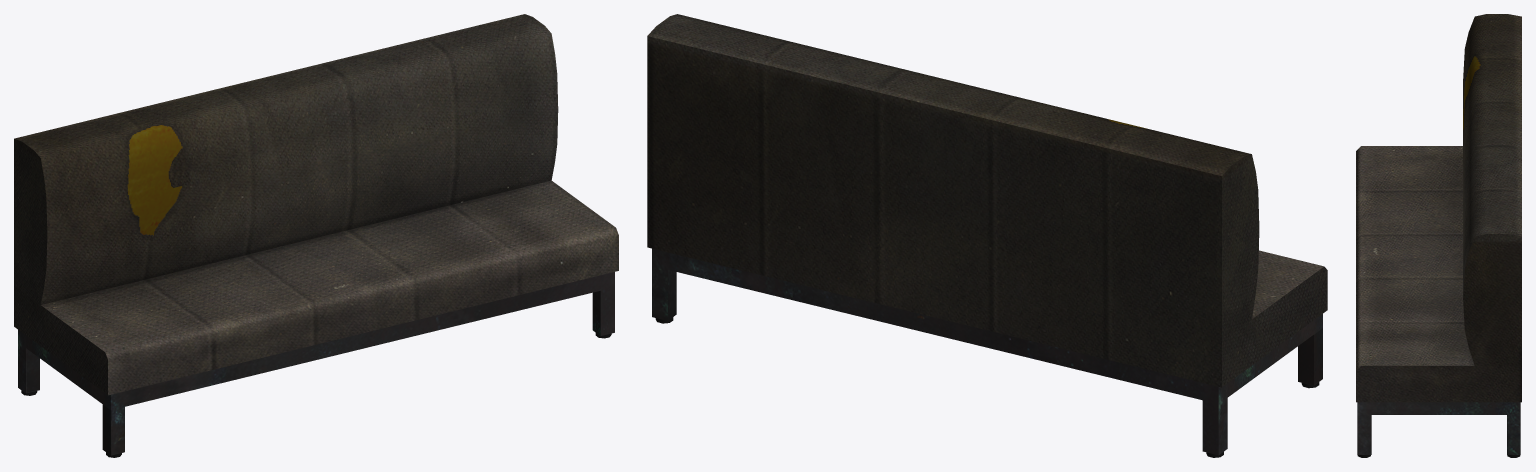
File: couch.fbx
3 views of the same model, side by side, from view 1: azimuth 30°, elevation 25°; view 2: azimuth 150°, elevation 25°; view 3: azimuth 270°, elevation 25° (orthographic). The views are drawn at different scales.
Parts seen in each view (by area): view 1: couch2, couch6; view 2: couch2, couch6; view 3: couch2, couch6.
Boxes of the visible parts, box(x1,y1,x2,y2) form: couch2: box(14, 14, 618, 395); couch6: box(18, 272, 614, 455); couch2: box(647, 14, 1327, 387); couch6: box(652, 248, 1322, 455); couch2: box(1356, 14, 1521, 402); couch6: box(1357, 402, 1520, 454).
Size of the model in its own units: 201 by 95.81 by 63.8.
